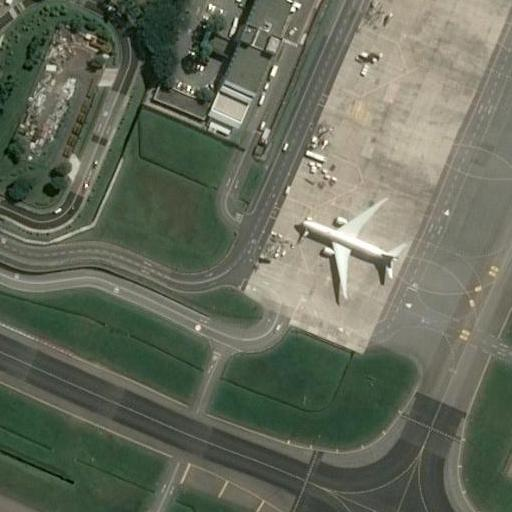Aircraft: (284, 196, 408, 300)
